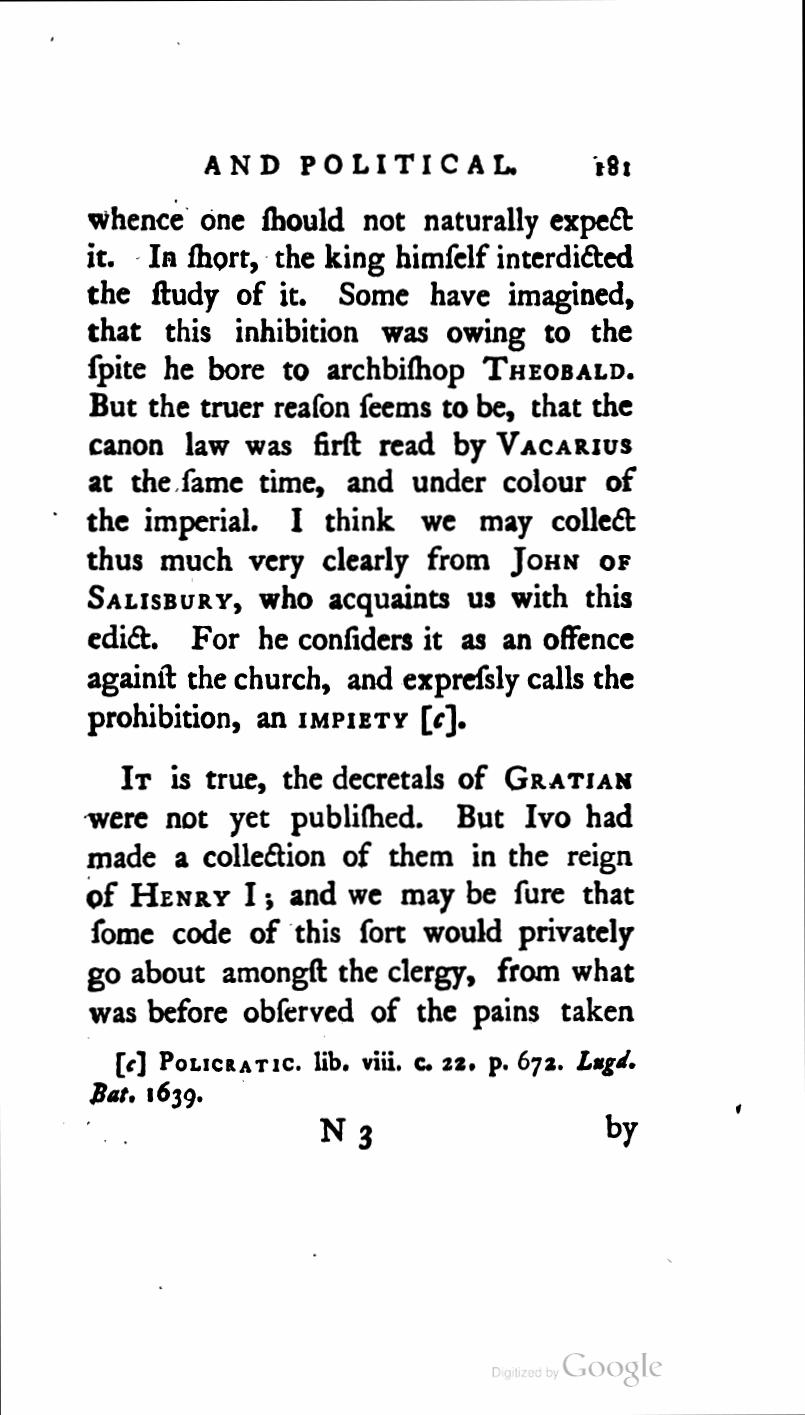bottom_p: (86, 200, 640, 742)
catchword: (600, 1110, 642, 1150)
footnotes: (86, 1044, 642, 1110)
header: (200, 144, 522, 184)
page_num: (592, 148, 636, 180)
signature: (318, 1112, 376, 1156)
top_p: (82, 762, 642, 1028)
